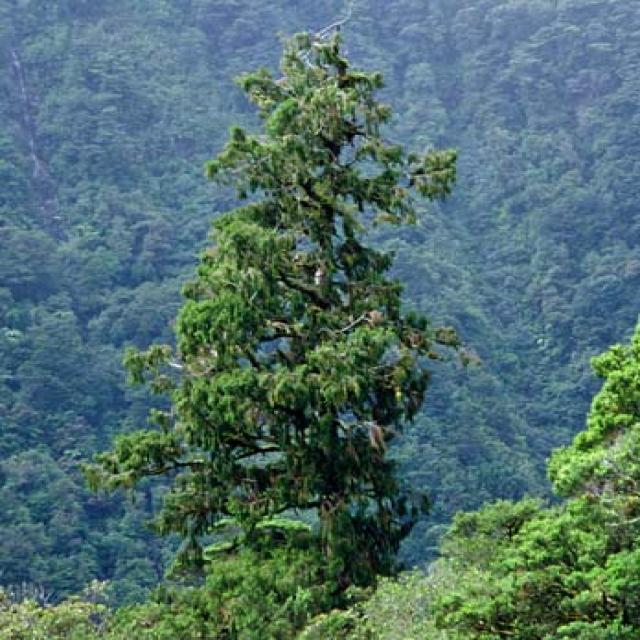Rimu: (89, 24, 460, 594)
